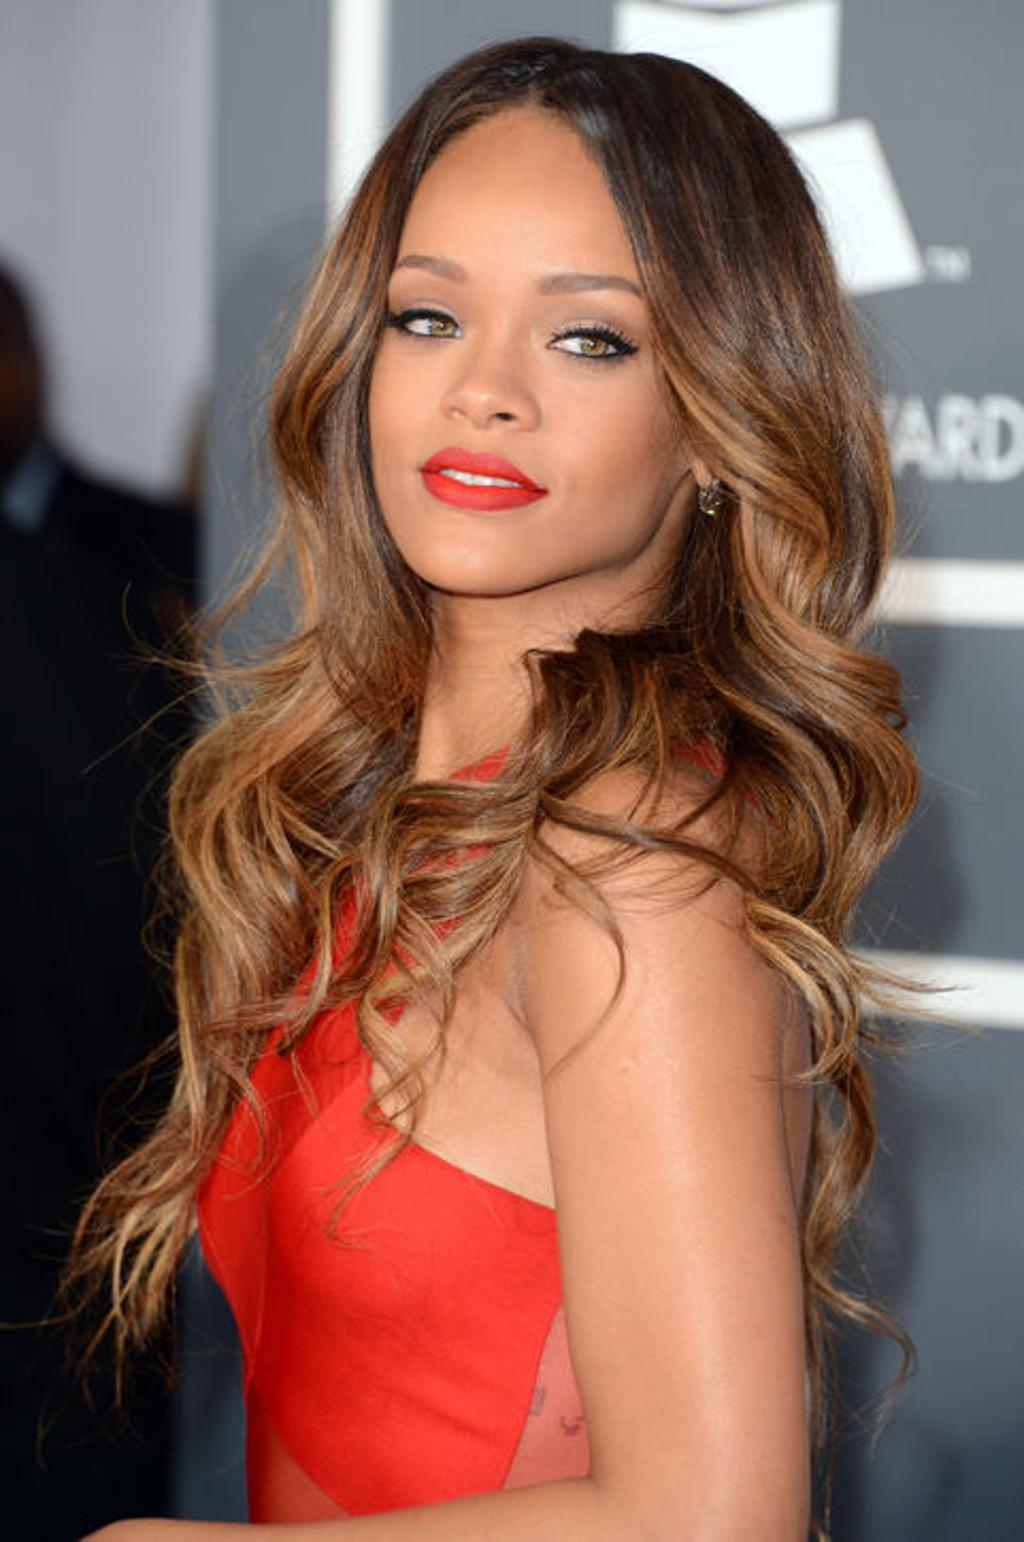face: (373, 111, 686, 590)
